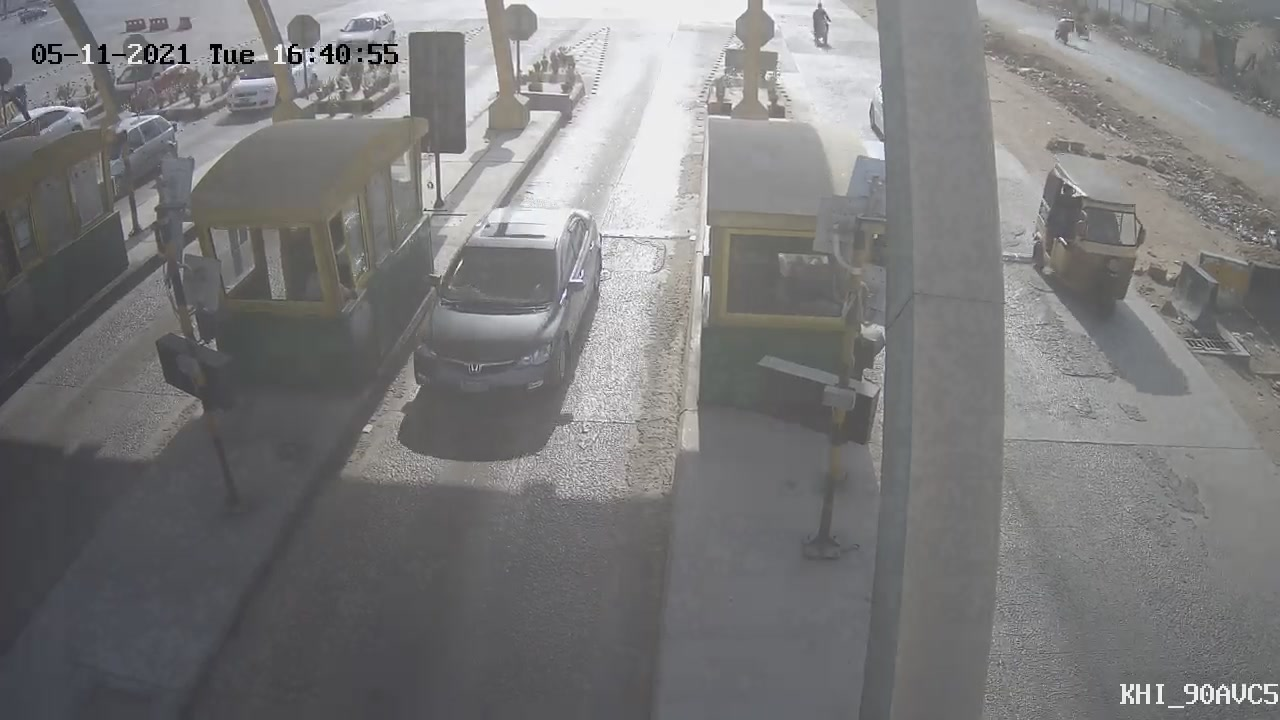F1: (400, 195, 617, 421)
